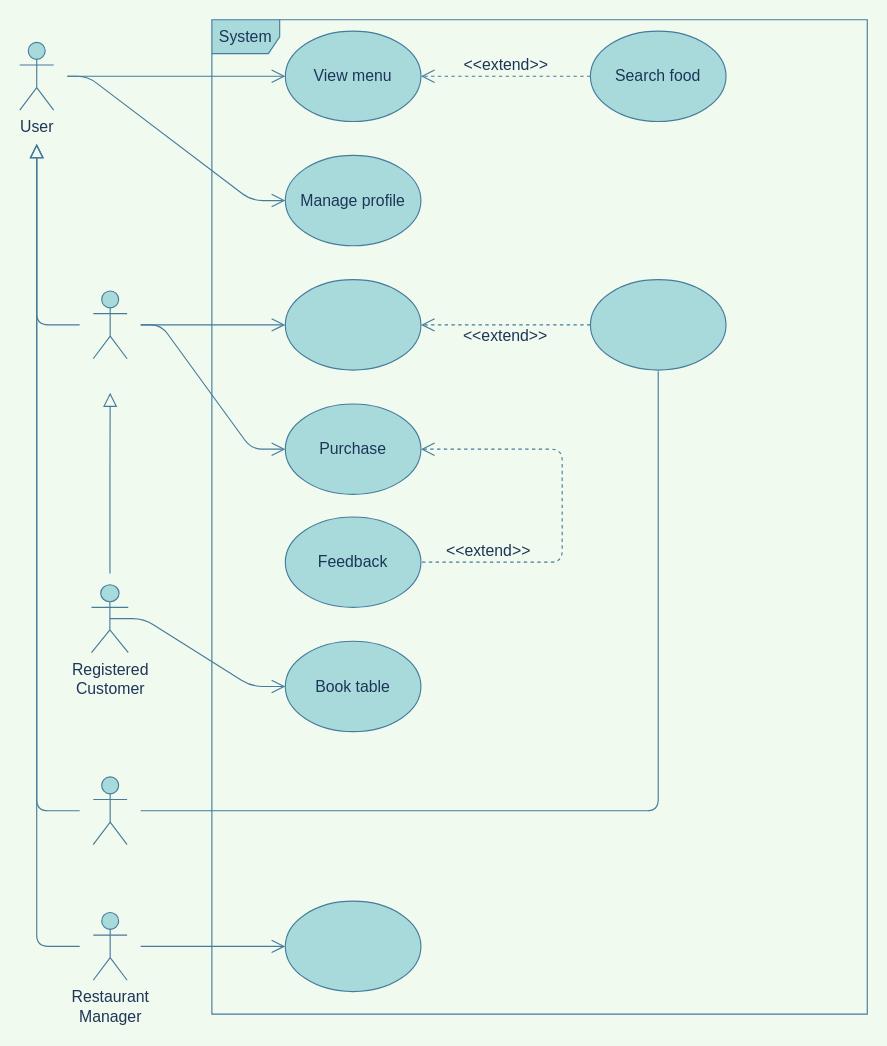
Some shapes in this 887 by 1046 pixel diagram are drawn without their labels. The centre of each missing label's shape, as x and y in pixels:
Clerk: the point at 109,810
Confirm order: the point at 657,324
Customer: the point at 109,324
Manage data: the point at 352,946
Order food: the point at 352,324
